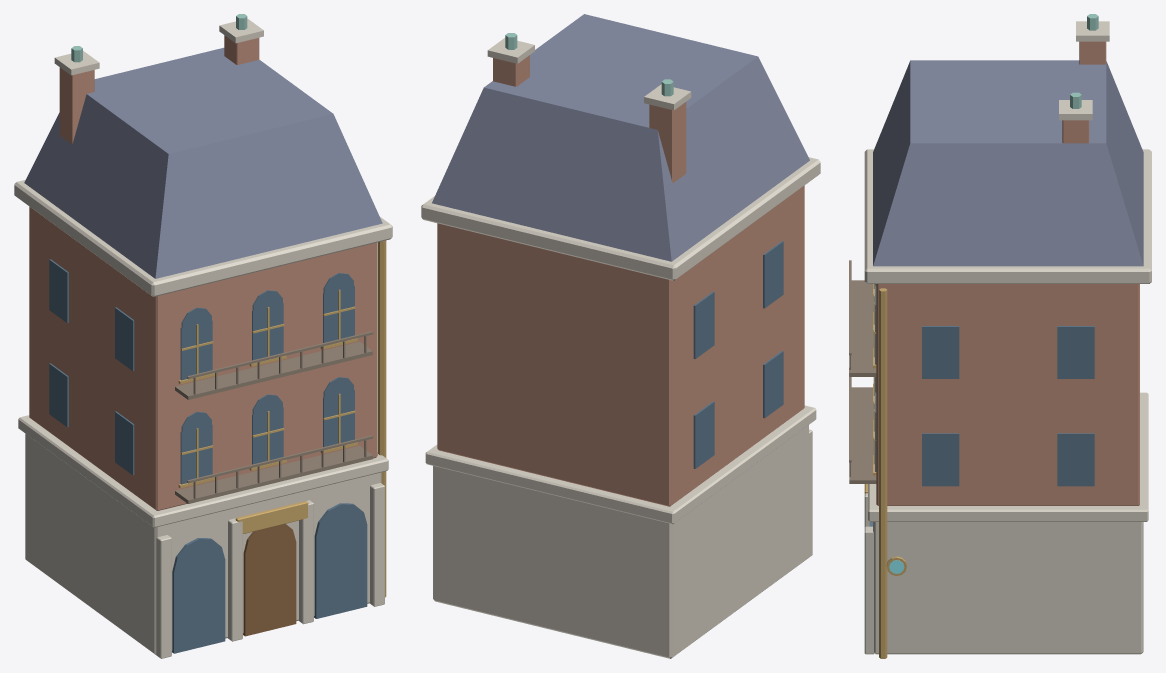
File: Cite_MaisonA.fbx
3 views of the same model, side by side, from view 1: azimuth 30°, elevation 25°; view 2: azimuth 150°, elevation 25°; view 3: azimuth 270°, elevation 25° (orthographic). The views are drawn at different scales.
Parts seen in each view (by area): view 1: Cite_MaisonA_Brique, Cite_MaisonA_Ardoise, Cite_MaisonA_Pierre, Cite_MaisonA_Vitre, Cite_MaisonA_Fer, Cite_MaisonA_Laiton, Cite_MaisonA_Bois; view 2: Cite_MaisonA_Brique, Cite_MaisonA_Pierre, Cite_MaisonA_Ardoise, Cite_MaisonA_Vitre; view 3: Cite_MaisonA_Ardoise, Cite_MaisonA_Brique, Cite_MaisonA_Pierre, Cite_MaisonA_Vitre, Cite_MaisonA_Fer, Cite_MaisonA_Laiton.
Boxes of the visible parts, box(x1,y1,x2,y2) form: Cite_MaisonA_Brique: box(29, 35, 377, 510); Cite_MaisonA_Ardoise: box(24, 47, 382, 278); Cite_MaisonA_Pierre: box(14, 18, 392, 658); Cite_MaisonA_Vitre: box(49, 259, 367, 653); Cite_MaisonA_Fer: box(175, 331, 373, 503); Cite_MaisonA_Laiton: box(178, 240, 386, 597); Cite_MaisonA_Bois: box(243, 524, 296, 636); Cite_MaisonA_Brique: box(437, 55, 804, 506); Cite_MaisonA_Pierre: box(421, 38, 820, 658); Cite_MaisonA_Ardoise: box(432, 14, 809, 261); Cite_MaisonA_Vitre: box(693, 241, 783, 468); Cite_MaisonA_Ardoise: box(873, 60, 1143, 266); Cite_MaisonA_Brique: box(876, 41, 1139, 505); Cite_MaisonA_Pierre: box(864, 21, 1151, 654); Cite_MaisonA_Vitre: box(869, 284, 1094, 526); Cite_MaisonA_Fer: box(849, 260, 876, 483); Cite_MaisonA_Laiton: box(864, 284, 906, 658).
Bounding box in the file's own units: 17.03 × 35.2 × 17.93.
